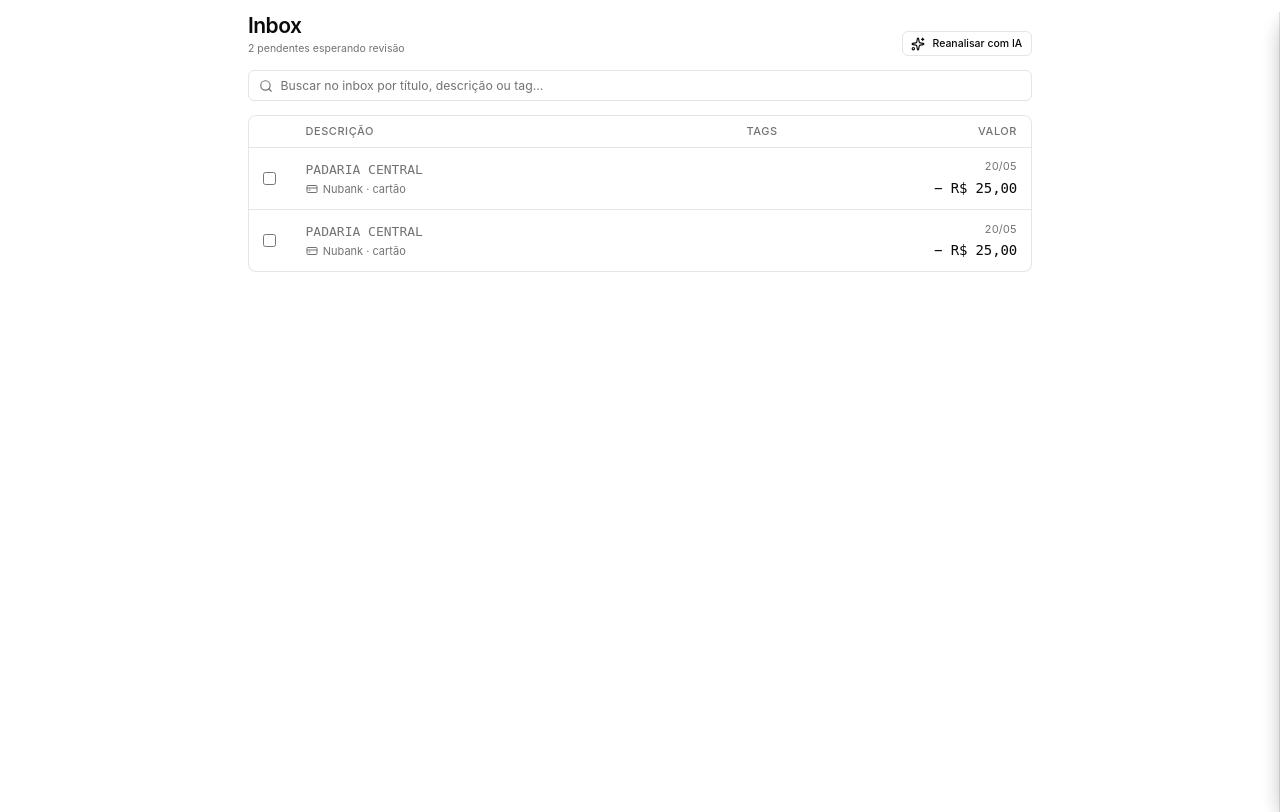
Test: <InboxPage /> › barra de ações em massa flutua fixa no rodapé da janela e reserva espaço na lista
Click the checkbox with test id "select-t1" at (270,178), box [263,172,276,185]
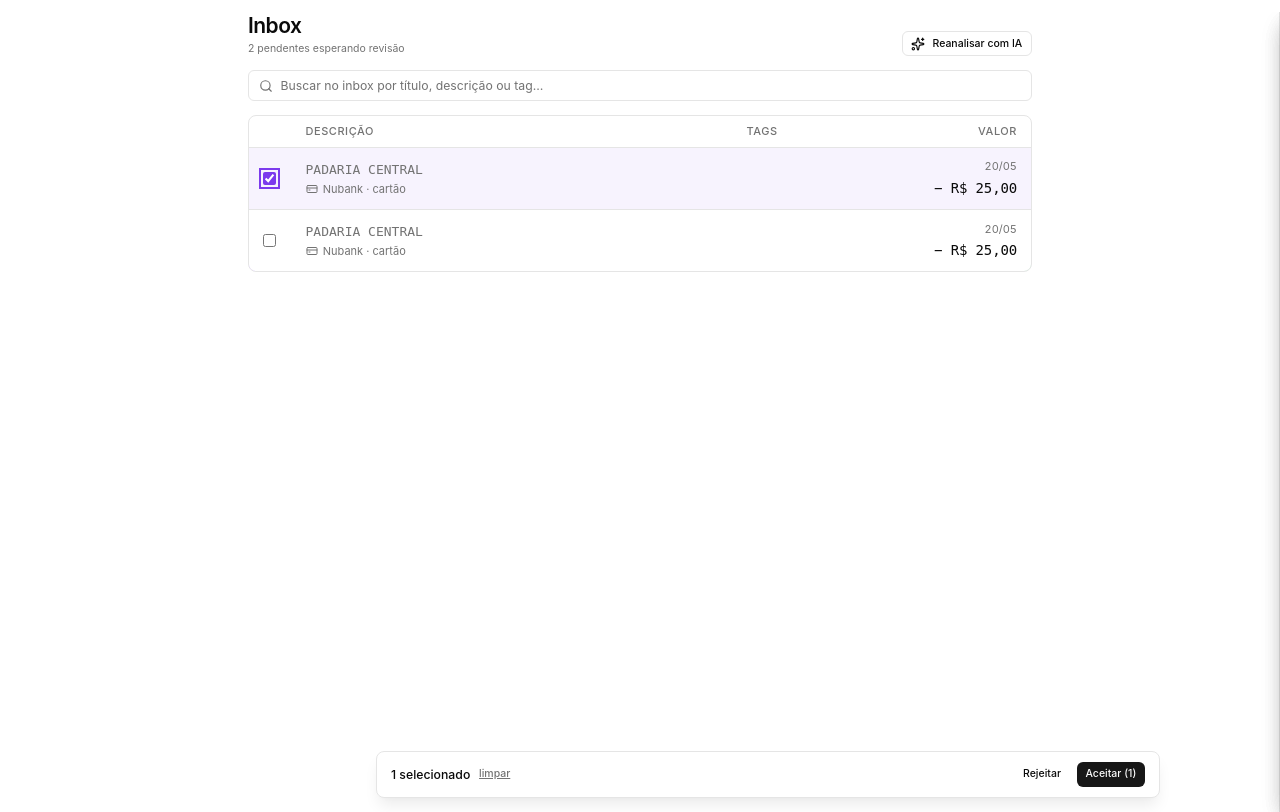
Expected: the element with test id "inbox-page" has class "pb-24", [248,12,1032,356]
Click the button "limpar" at (495,774), box [479,767,510,781]
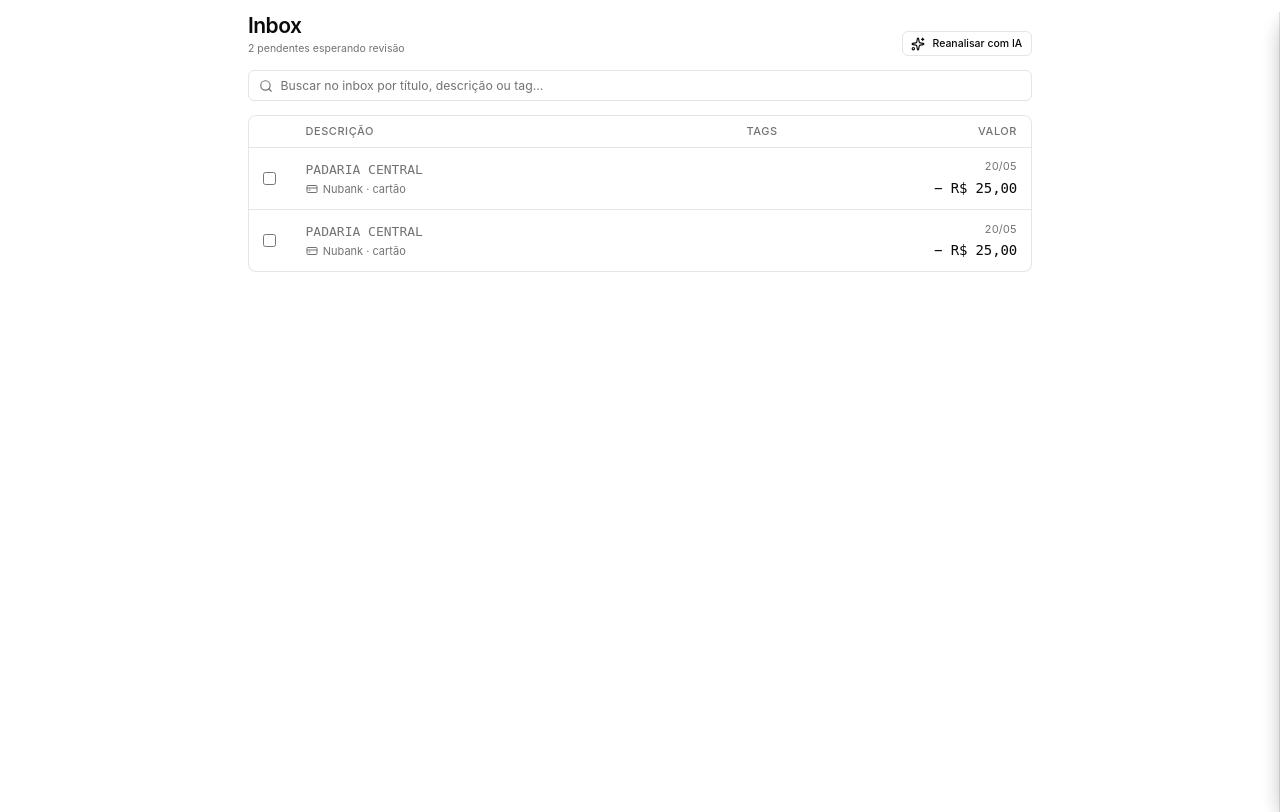
Expected: the element with test id "bulk-bar" is gone
